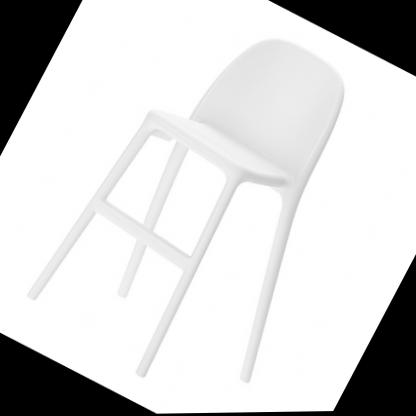Chair: (14, 0, 404, 416)
